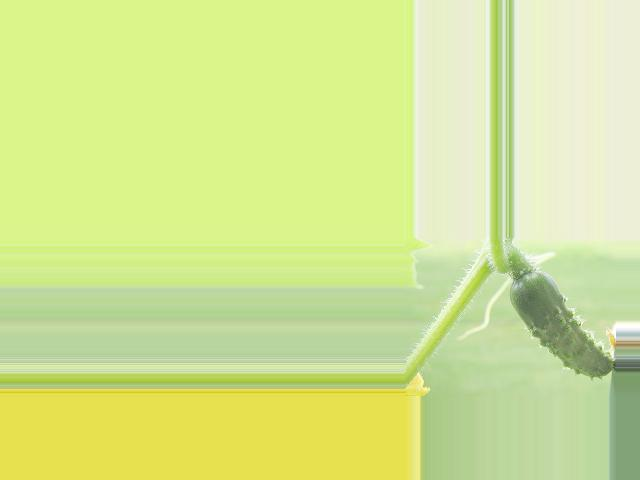cucumber: (507, 272, 612, 379)
